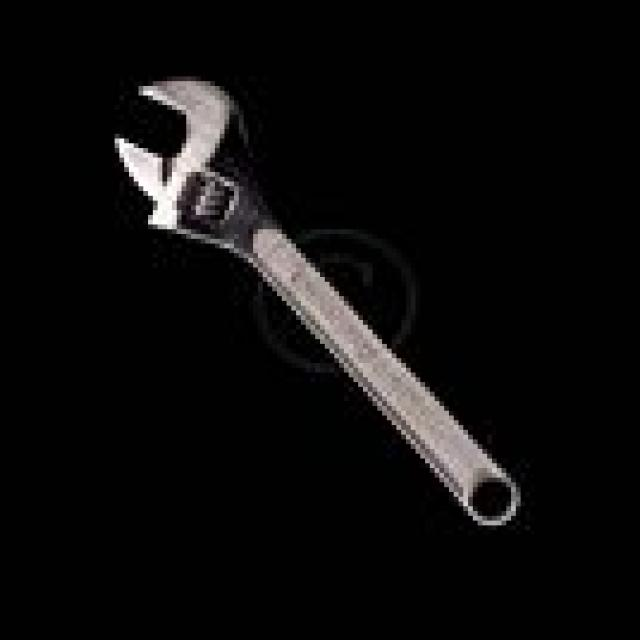wrench: (100, 63, 560, 540)
